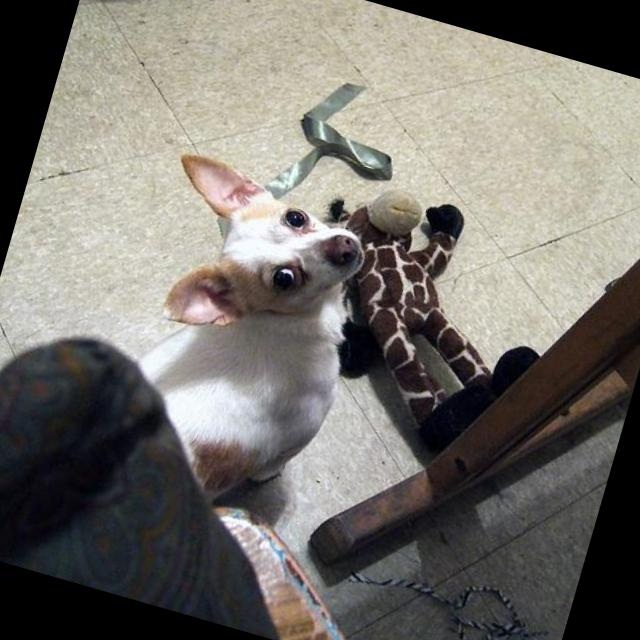dog: (91, 149, 386, 527)
